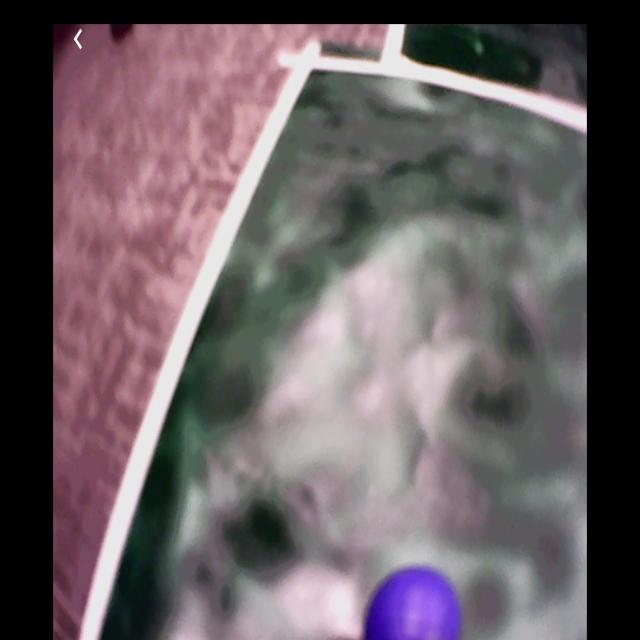ball: (366, 564, 464, 640)
